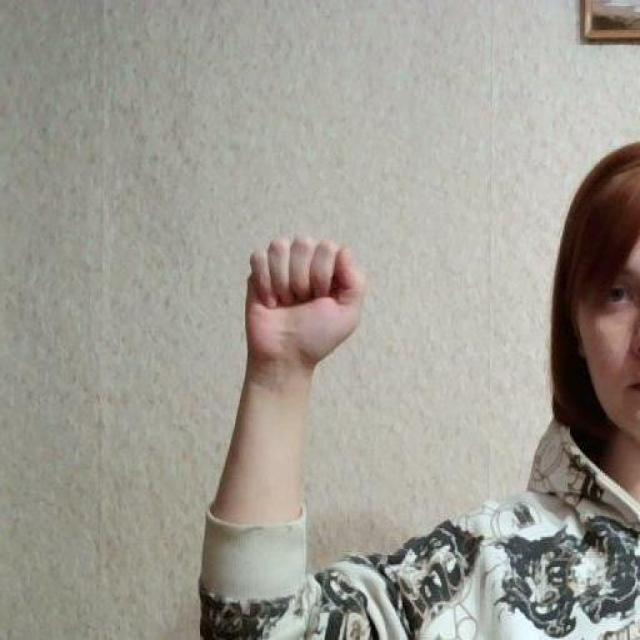hand: (242, 233, 368, 380)
